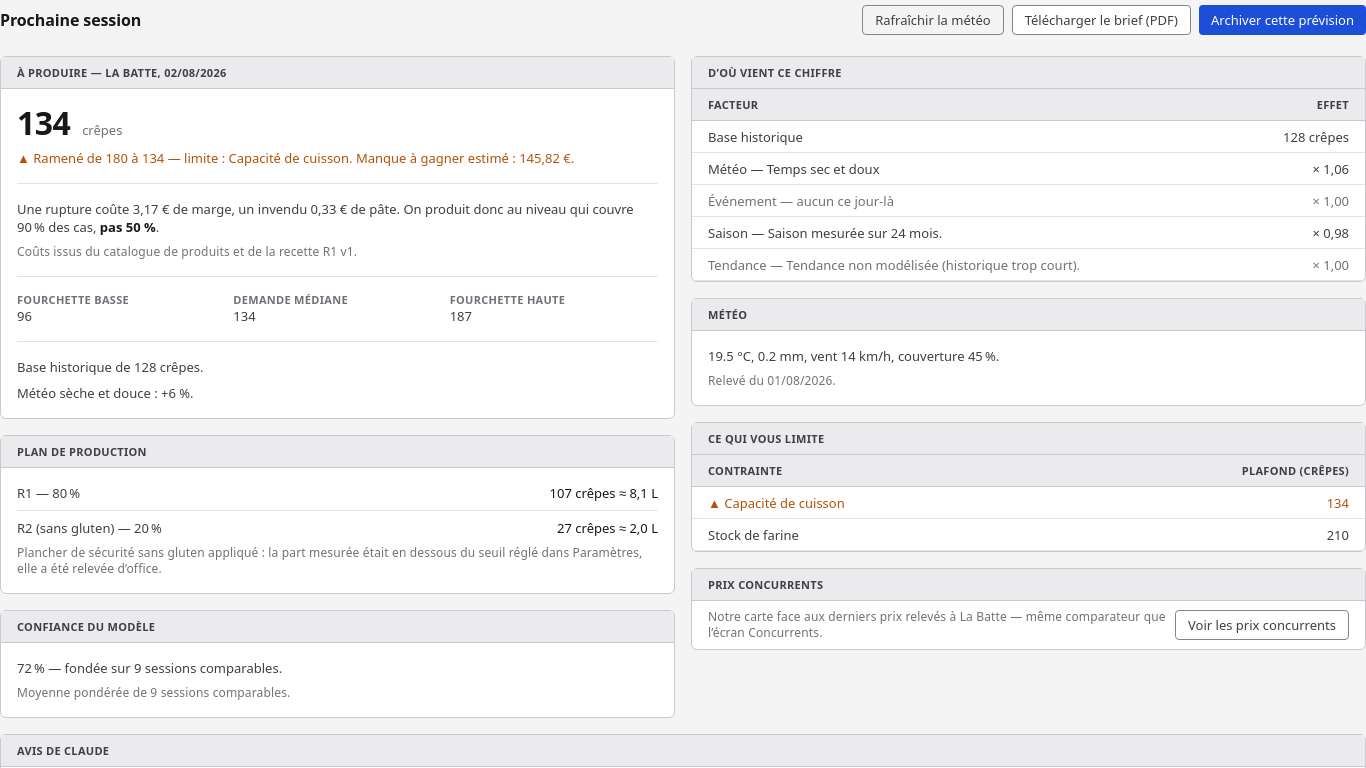
Test: Prochaine session — archivage › l’archivage réussi le confirme, et transmet l’identifiant de SESSION, jamais rien d’autre
This screenshot has width=1366, height=768.
Expected: the heading "À produire — La Batte, 02/08/2026" is shown, [1,57,674,89]
Click the button "Archiver cette prévision": (1282, 20) [1199,5,1365,35]
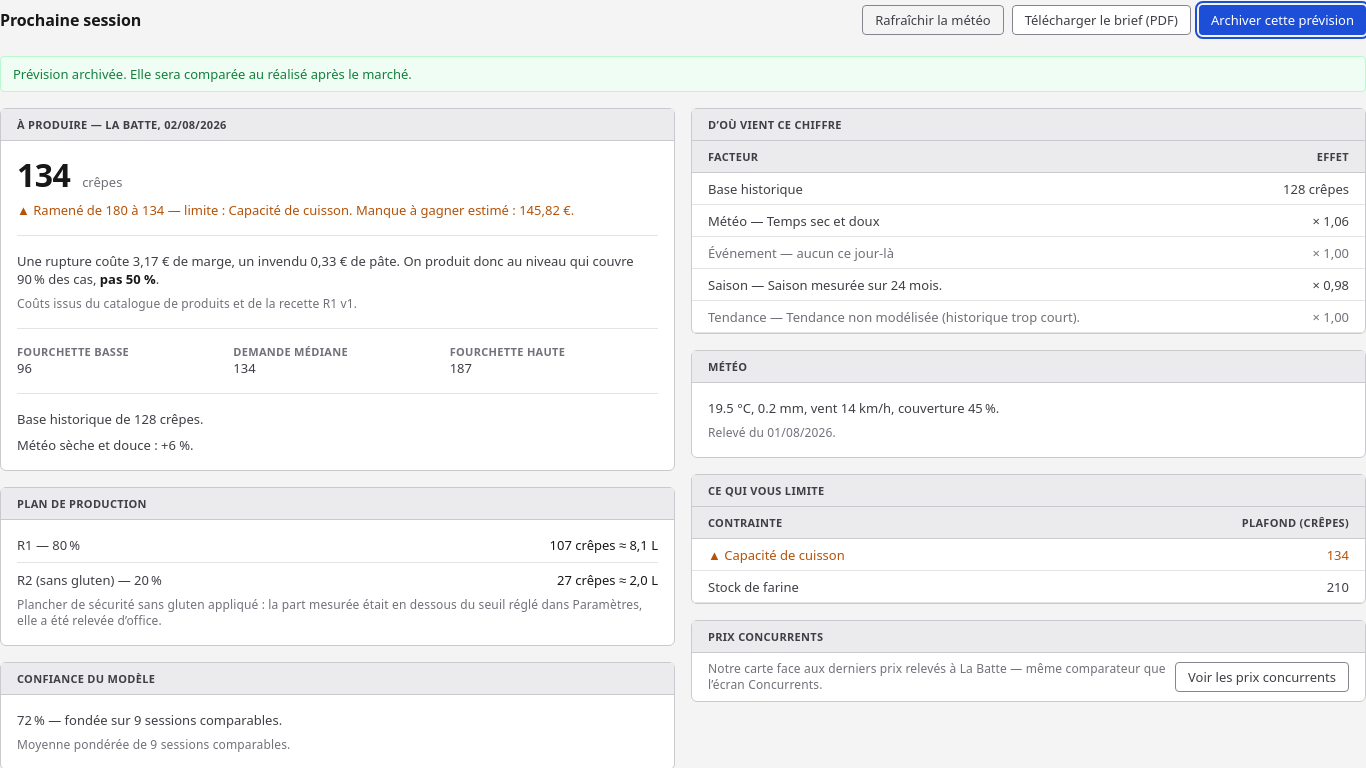
Now the message shows "Prévision archivée", box [13,65,412,83]
